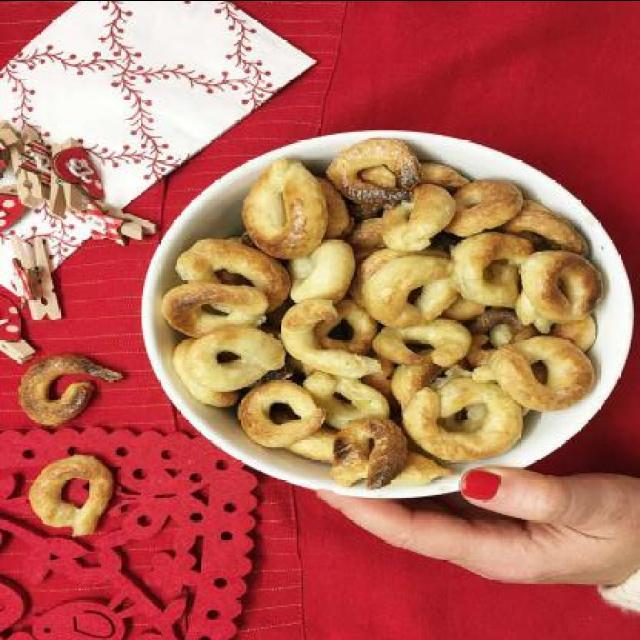Taralli: (164, 134, 604, 486), (18, 350, 120, 428), (28, 454, 112, 537)
